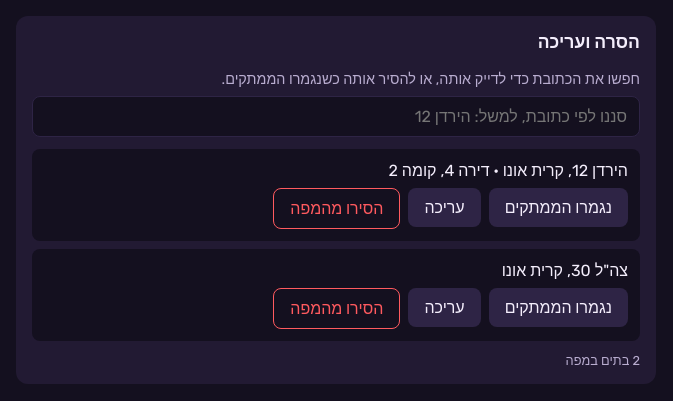
Test case: HouseList › filters while typing
Type "ירד" into the dropdown named "חפשו כתובת" at (336, 116), box [32,96,640,137]
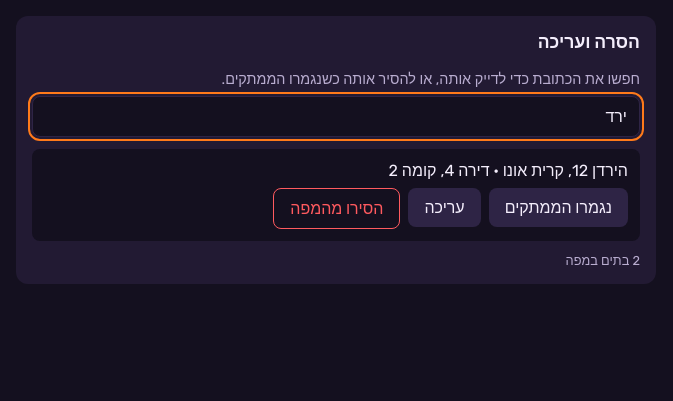
Expected: the text "הירדן 12, קרית אונו · דירה 4, קומה 2" is shown, [388,161,628,180]
Expected: the option "צה\"ל" is gone
